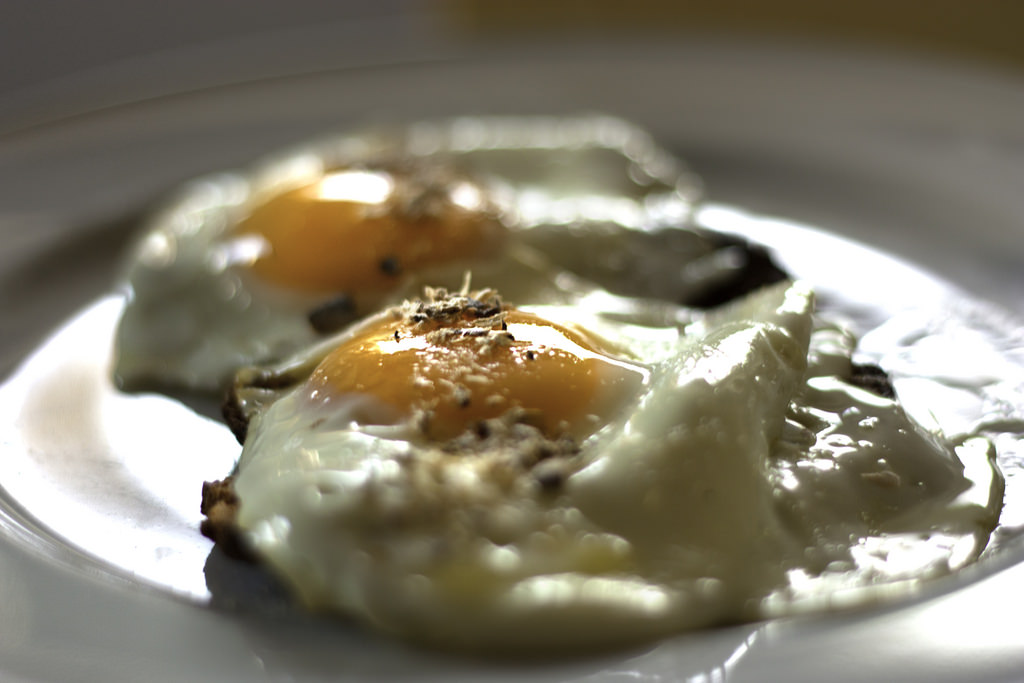fried egg: (276, 292, 902, 621), (130, 129, 634, 387)
